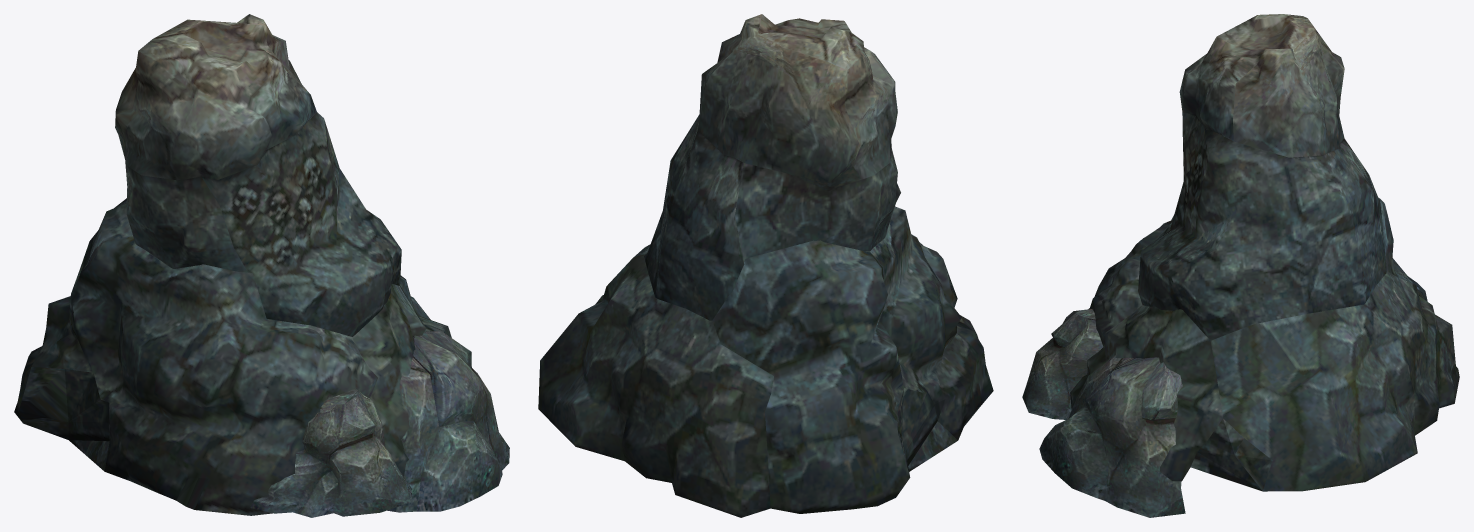
Rendered from S_Rock_Black039.FBX.
The picture shows the model from 3 angles, left to right: view 1: azimuth 30°, elevation 25°; view 2: azimuth 150°, elevation 25°; view 3: azimuth 270°, elevation 25°; orthographic projection. The views are drawn at different scales.
Visible parts, largest first — view 1: S_Rock_Black039; view 2: S_Rock_Black039; view 3: S_Rock_Black039.
Boxes of the visible parts, box(x1,y1,x2,y2) form: S_Rock_Black039: box(14, 14, 509, 517); S_Rock_Black039: box(538, 14, 993, 517); S_Rock_Black039: box(1022, 14, 1459, 517).
Size of the model in its own units: 426 by 452 by 445.
